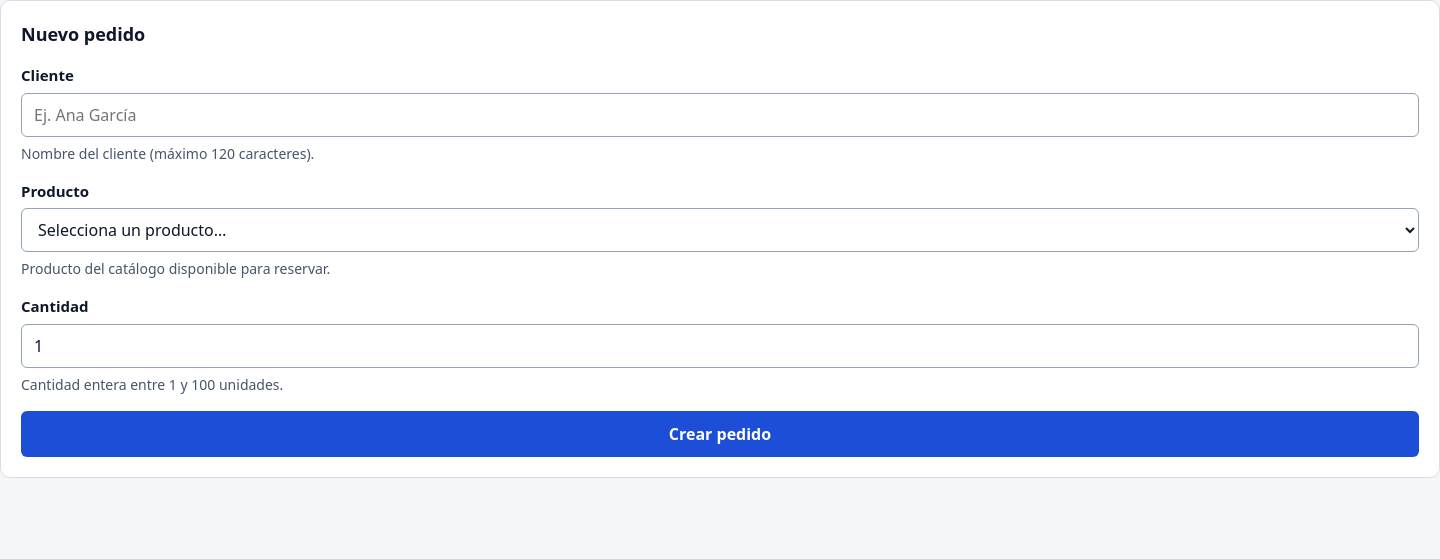
Test: OrderForm and OrderList › shows the server field error and alert when the API returns 400 ProblemDetails
This screenshot has width=1440, height=559.
Type "Ana García" into the field labelled "Cliente" at {"x": 720, "y": 114}, box [21,92,1419,136]
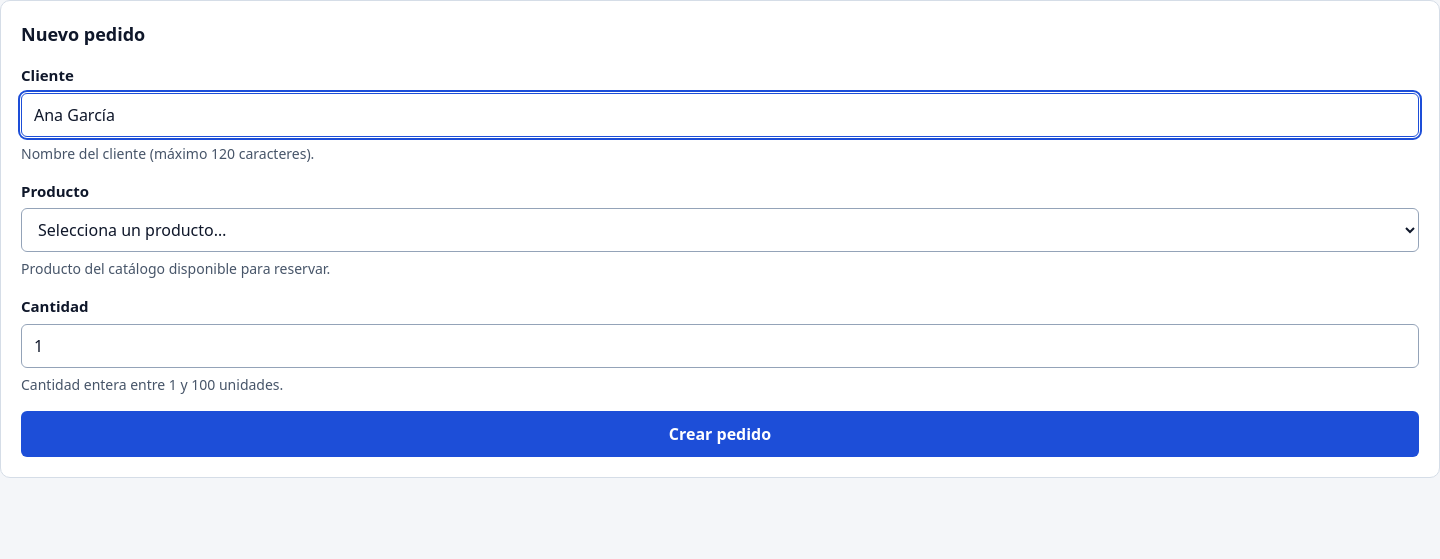
Select "Teclado Mecánico Compacto (ABC-01)" in the dropdown labelled "Producto" at {"x": 720, "y": 230}, box [21,208,1419,252]
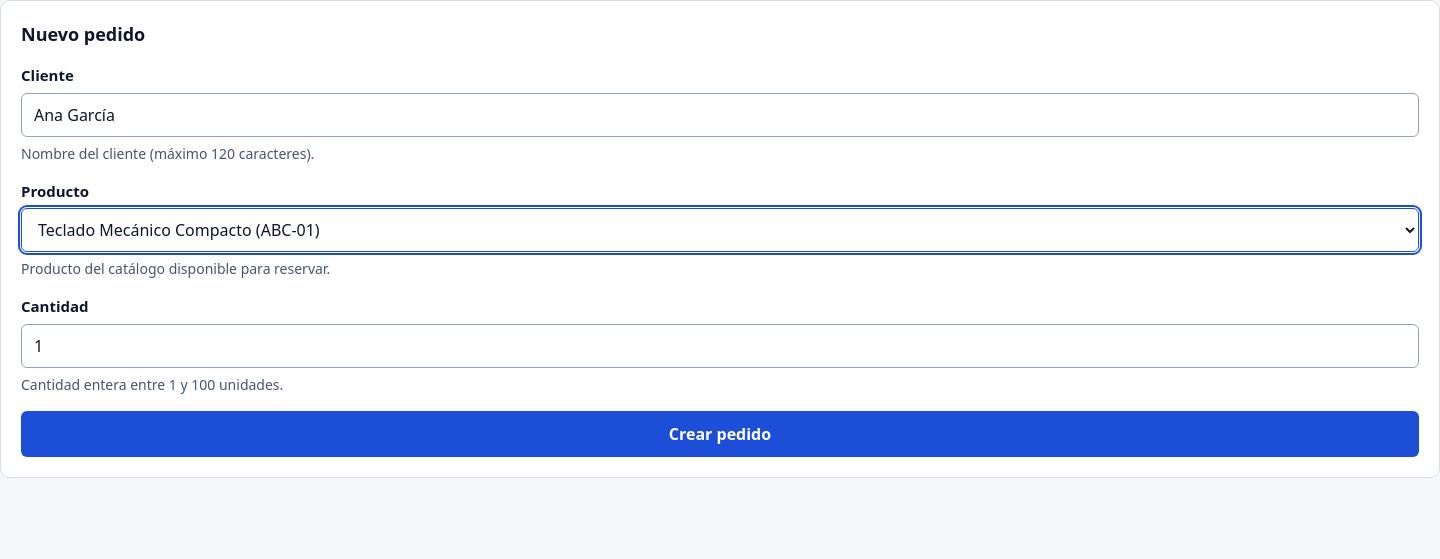
Click the button "Crear pedido" at {"x": 720, "y": 434}, box [21,410,1419,456]
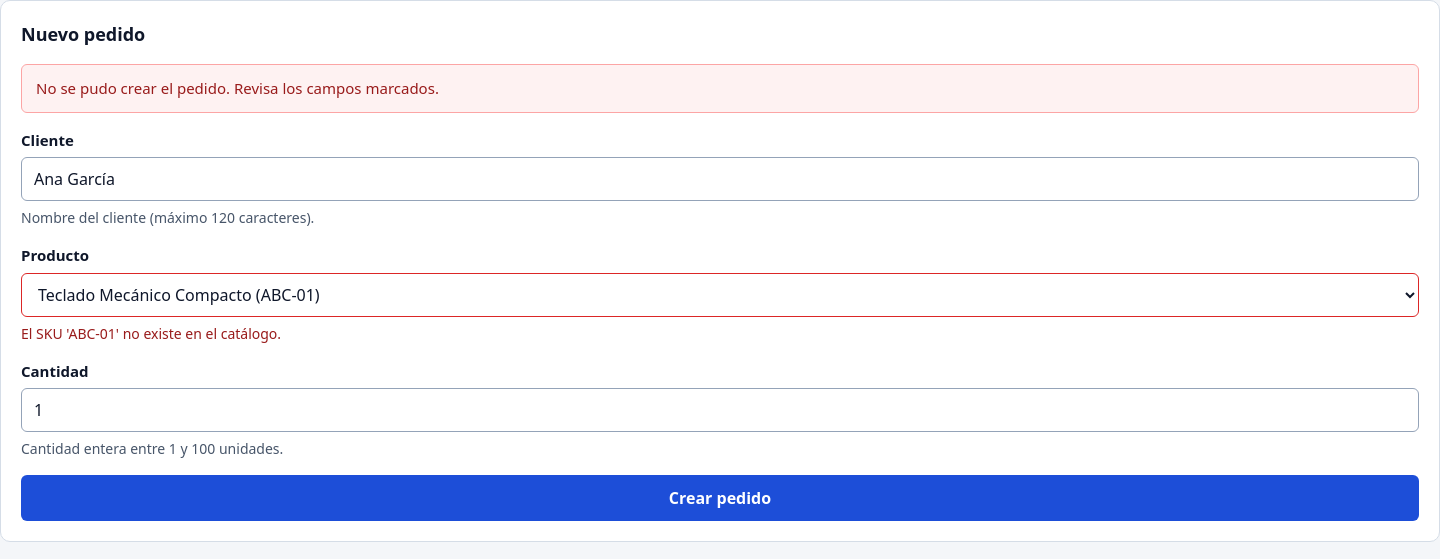
Expected: the message reads "No se pudo crear el pedido. Revisa los campos marcados.", [36,78,439,98]
Expected: the text "El SKU 'ABC-01' no existe en el catálogo." is shown, [21,324,281,342]
